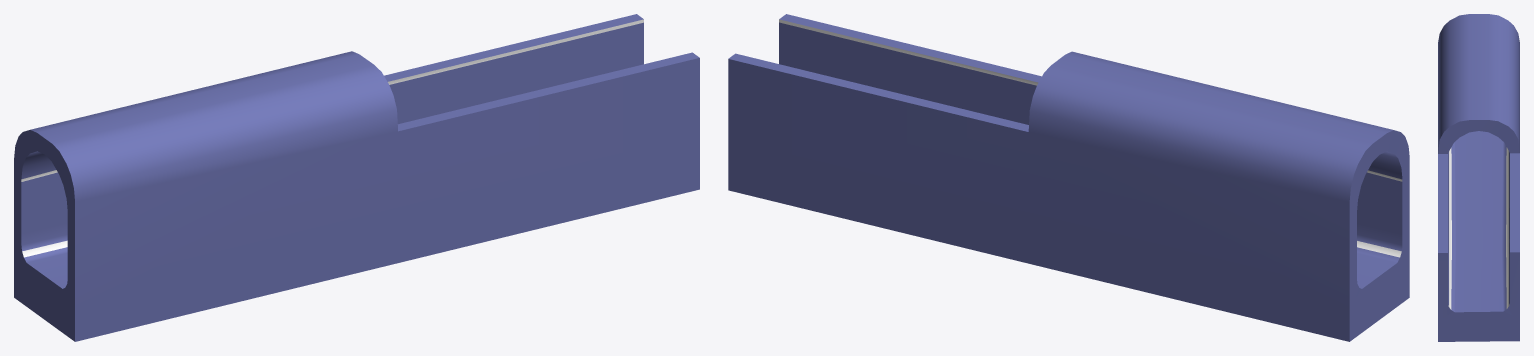
Rendered from sm_jumpStart_01.fbx.
3 views of the same model, side by side, from view 1: azimuth 30°, elevation 25°; view 2: azimuth 150°, elevation 25°; view 3: azimuth 270°, elevation 25° (orthographic). The views are drawn at different scales.
Parts seen in each view (by area): view 1: sm_jumpStart_01; view 2: sm_jumpStart_01; view 3: sm_jumpStart_01.
Part boxes in pixels (x1,y1,x2,y2): sm_jumpStart_01: [14, 14, 699, 341]; sm_jumpStart_01: [728, 14, 1409, 341]; sm_jumpStart_01: [1438, 14, 1519, 341].
Bounding box in the file's own units: 4580 × 1271 × 769.
